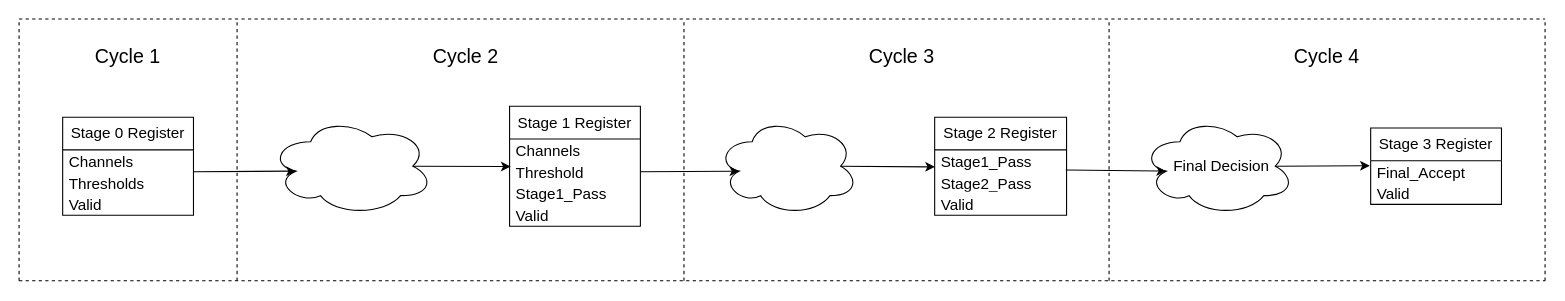
Image size: 1565x301. Some labels were removed from this diagram. Each missing label, with the centre of its shape:
Global Adder Tree: the point at 787,165
Sliding Window Sums: the point at 351,165
